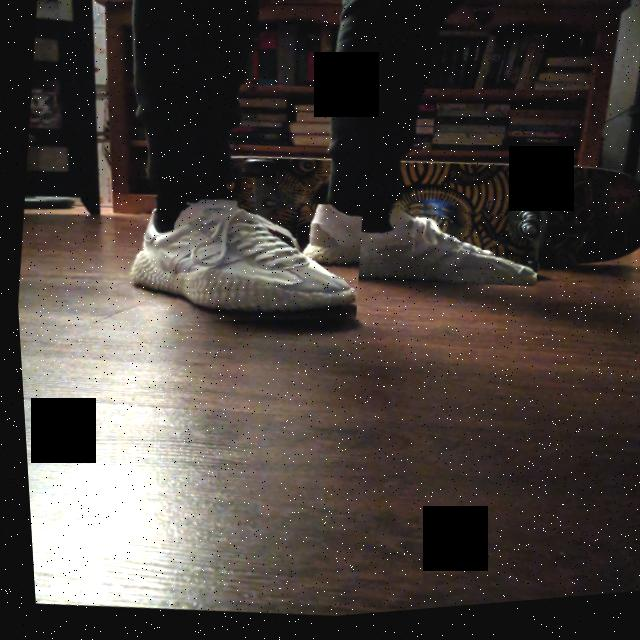shoe: (113, 184, 365, 351), (299, 188, 541, 309)
